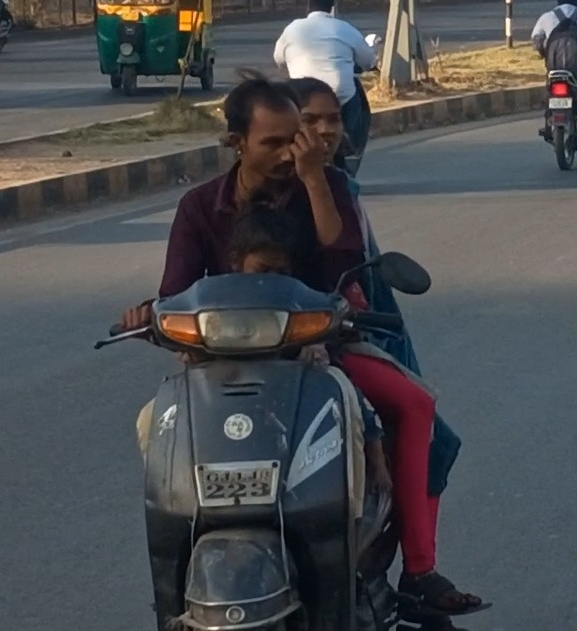BikeWithRider: (91, 70, 503, 631)
NoHelmet: (217, 208, 308, 315), (213, 74, 303, 182), (276, 75, 355, 168)
